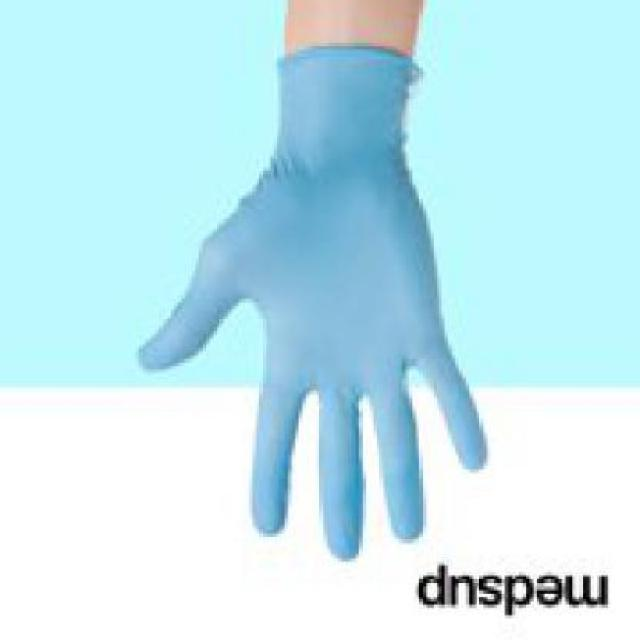gloved_hand: (130, 40, 490, 563)
